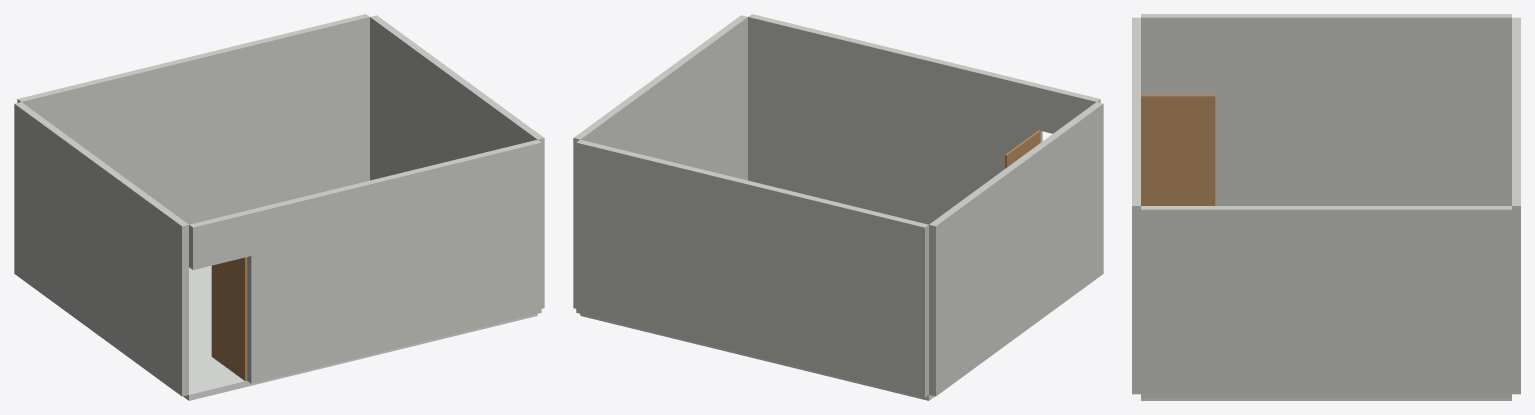
3 views of the same model, side by side, from view 1: azimuth 30°, elevation 25°; view 2: azimuth 150°, elevation 25°; view 3: azimuth 270°, elevation 25° (orthographic). The views are drawn at different scales.
Parts seen in each view (by area): view 1: room:north:high, room:south:full, room:west:full, room:east:full, room:floor, door:leaf, room:north:lintel; view 2: room:south:full, room:north:high, room:west:full, room:east:full, room:north:lintel, room:floor, door:leaf; view 3: room:east:full, room:west:full, door:leaf, room:south:full, room:north:high, room:floor.
Part boxes in pixels (left/top/right/bottom): room:north:high: left=247, top=139, right=541, bottom=383; room:south:full: left=17, top=14, right=369, bottom=224; room:west:full: left=14, top=102, right=188, bottom=396; room:east:full: left=370, top=15, right=544, bottom=308; room:floor: left=183, top=265, right=537, bottom=400; door:leaf: left=211, top=257, right=247, bottom=380; room:north:lintel: left=189, top=210, right=251, bottom=269; room:south:full: left=576, top=139, right=928, bottom=397; room:north:high: left=748, top=14, right=1042, bottom=224; room:west:full: left=929, top=102, right=1103, bottom=396; room:east:full: left=573, top=15, right=747, bottom=308; room:north:lintel: left=1038, top=85, right=1100, bottom=133; room:floor: left=580, top=314, right=934, bottom=400; door:leaf: left=1005, top=130, right=1040, bottom=168; room:east:full: left=1141, top=206, right=1511, bottom=397; room:west:full: left=1141, top=14, right=1511, bottom=205; door:leaf: left=1141, top=95, right=1215, bottom=205; room:south:full: left=1512, top=17, right=1520, bottom=394; room:north:high: left=1132, top=49, right=1140, bottom=394; room:floor: left=1141, top=398, right=1511, bottom=400.
Size of the model in its own units: 6.24 by 2.9 by 5.24.
